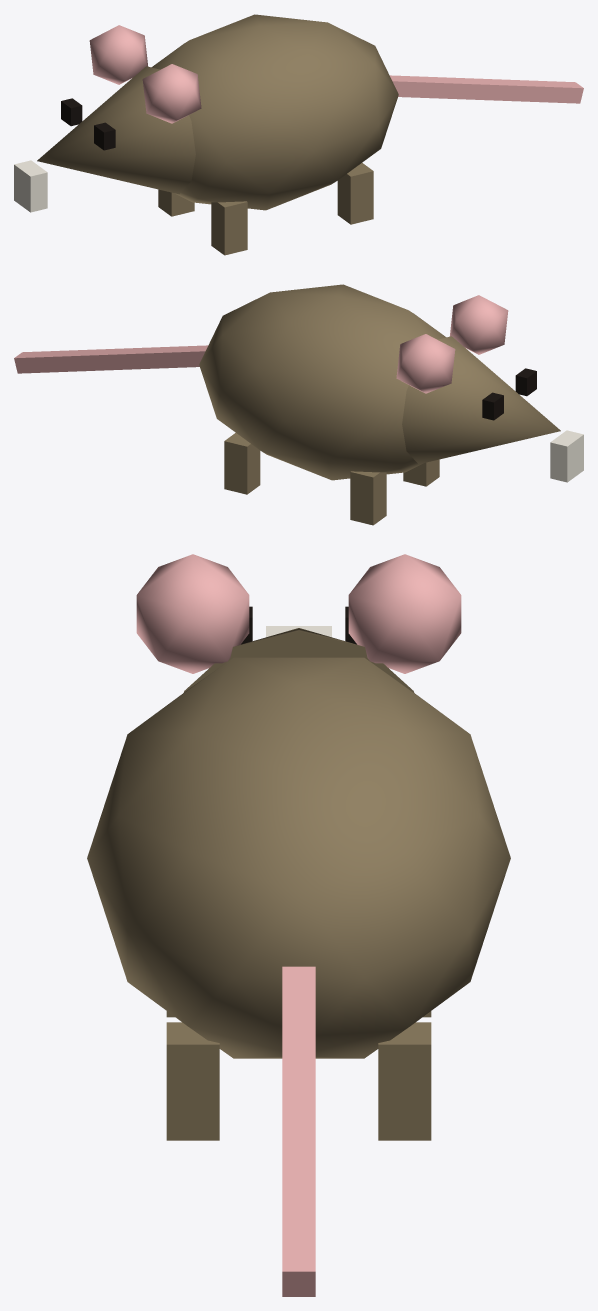
Rendered from gnawer.glb.
3 views of the same model, one above another, from view 1: azimuth 30°, elevation 25°; view 2: azimuth 150°, elevation 25°; view 3: azimuth 270°, elevation 25° (orthographic). The views are drawn at different scales.
Visible parts, largest first — view 1: body, head, tail, legBL, legFL, legFR; view 2: body, head, tail, legBR, legFR, legFL; view 3: body, head, tail, legBL, legBR.
Part boxes in pixels (x1,y1,x2,y2): body: (151,14,398,210); head: (14,25,201,212); tail: (389,75,583,103); legBL: (337,163,373,224); legFL: (211,201,247,255); legFR: (158,189,194,216); body: (199,284,446,480); head: (396,295,583,482); tail: (14,345,208,373); legBR: (224,433,260,494); legFR: (350,471,386,525); legFL: (403,459,439,486); body: (87,657,510,1058); head: (136,554,461,692); tail: (282,966,315,1296); legBL: (166,1022,219,1140); legBR: (378,1022,431,1140).
Size of the model in its own units: 0.9721 by 0.33 by 0.32.
